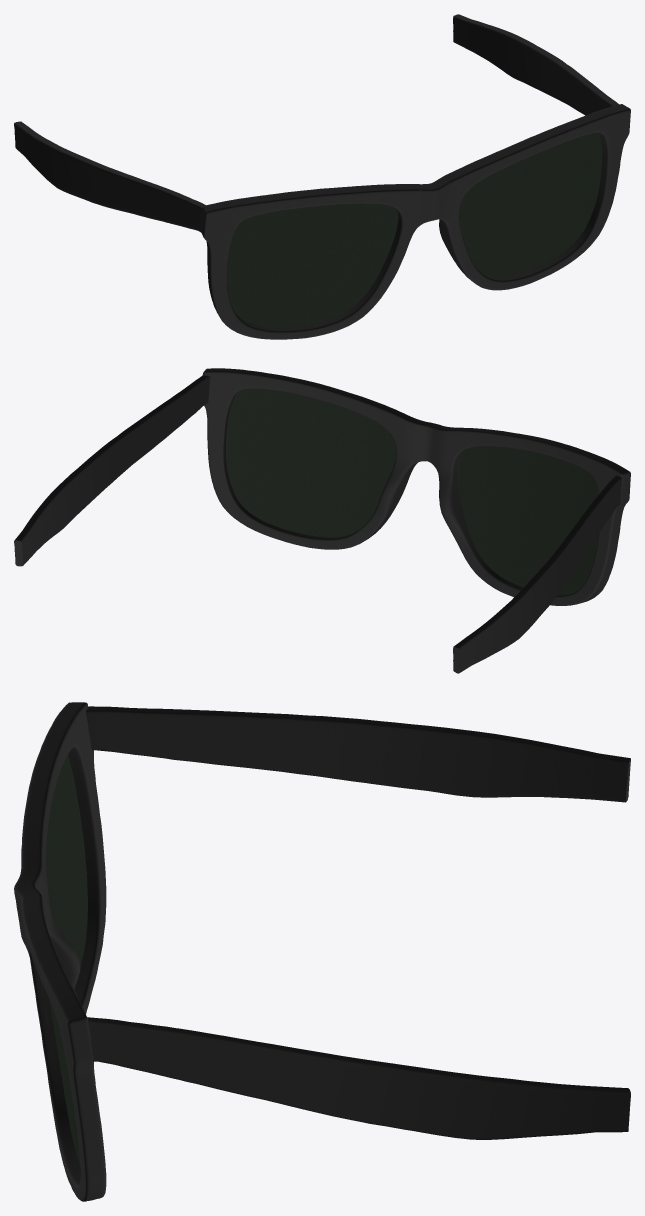
The model's file is justinobj2glb.glb.
3 views of the same model, one above another, from view 1: azimuth 30°, elevation 25°; view 2: azimuth 150°, elevation 25°; view 3: azimuth 270°, elevation 25° (orthographic). The views are drawn at different scales.
Visible parts, largest first — view 1: armacao_obj; view 2: armacao_obj; view 3: armacao_obj.
Part boxes in pixels (x1=…): armacao_obj: x1=14, y1=14, x2=630, y2=339; armacao_obj: x1=14, y1=368, x2=630, y2=673; armacao_obj: x1=14, y1=702, x2=630, y2=1201.
Bounding box in the file's own units: 0.1654 × 0.0529 × 0.1235.
Materials: 2 (2 with a texture image).
